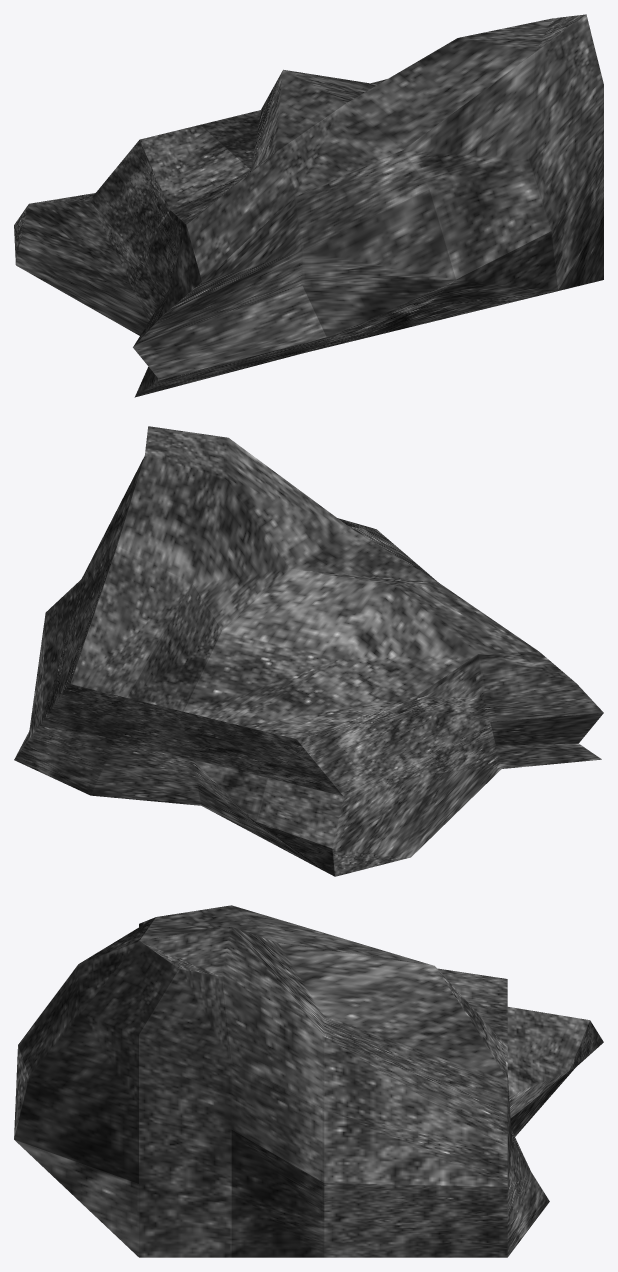
File: skały .glb
The picture shows the model from 3 angles, top to bottom: view 1: azimuth 30°, elevation 25°; view 2: azimuth 150°, elevation 25°; view 3: azimuth 270°, elevation 25°; orthographic projection. The views are drawn at different scales.
Parts seen in each view (by area): view 1: Cube; view 2: Cube; view 3: Cube.
Part boxes in pixels (box(x1,y1,x2,y2)): Cube: box(14, 14, 603, 397); Cube: box(14, 426, 603, 876); Cube: box(14, 905, 603, 1257).
Size of the model in its own units: 11.27 by 5.39 by 9.74.
1 material, 1 textured.
